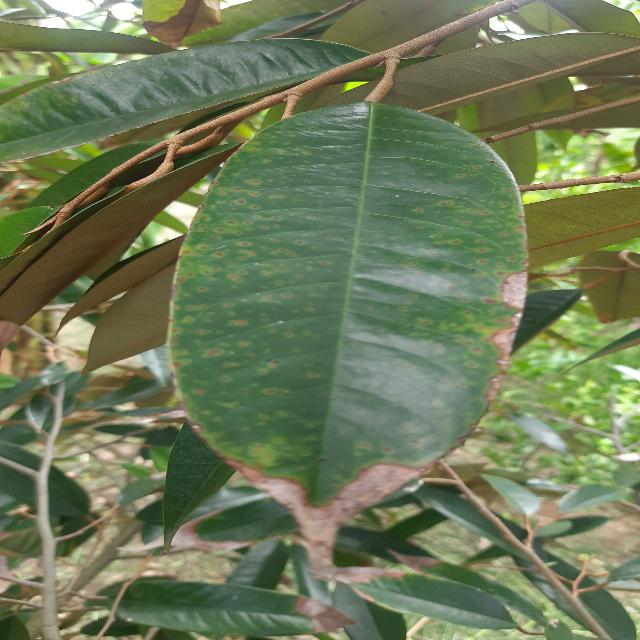Leaf Spot: (151, 91, 535, 585)
